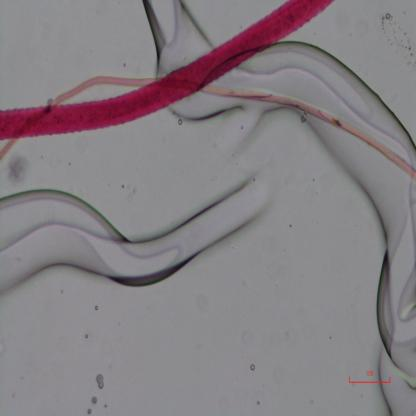Background material: (0, 166, 276, 294), (344, 173, 416, 413), (279, 34, 416, 140), (174, 98, 272, 160), (141, 1, 213, 74), (375, 11, 416, 68), (7, 149, 30, 187), (97, 372, 107, 392), (249, 362, 256, 373)
Hair textile: (0, 0, 335, 144)
Microfibre: (0, 74, 416, 180)
